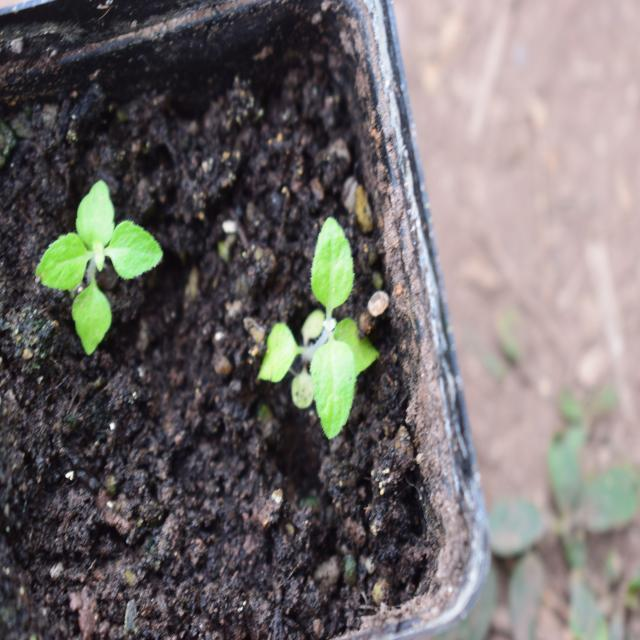billygoat_weed: (246, 219, 378, 433), (17, 170, 168, 344)
